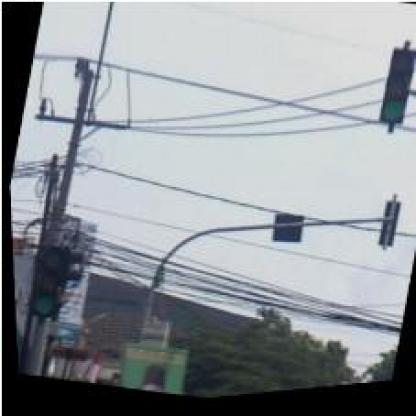green: (369, 48, 415, 139), (21, 241, 71, 323)
